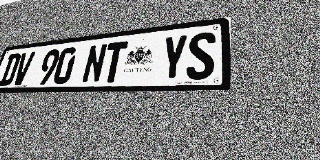0: (52, 47, 78, 84)
9: (36, 49, 61, 85)
D: (0, 53, 22, 86)
N: (81, 43, 108, 83)
S: (186, 31, 216, 80)
T: (100, 41, 128, 83)
V: (11, 51, 36, 86)
Y: (159, 34, 188, 81)
